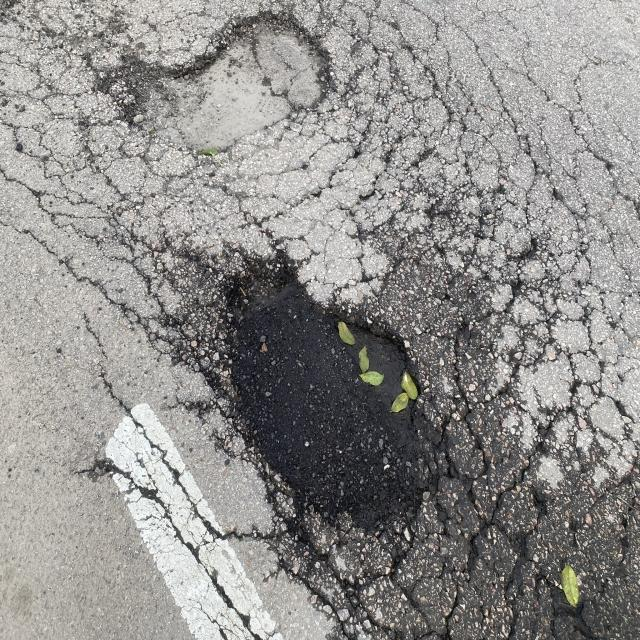Pothole: (177, 231, 506, 570), (58, 15, 444, 196)
